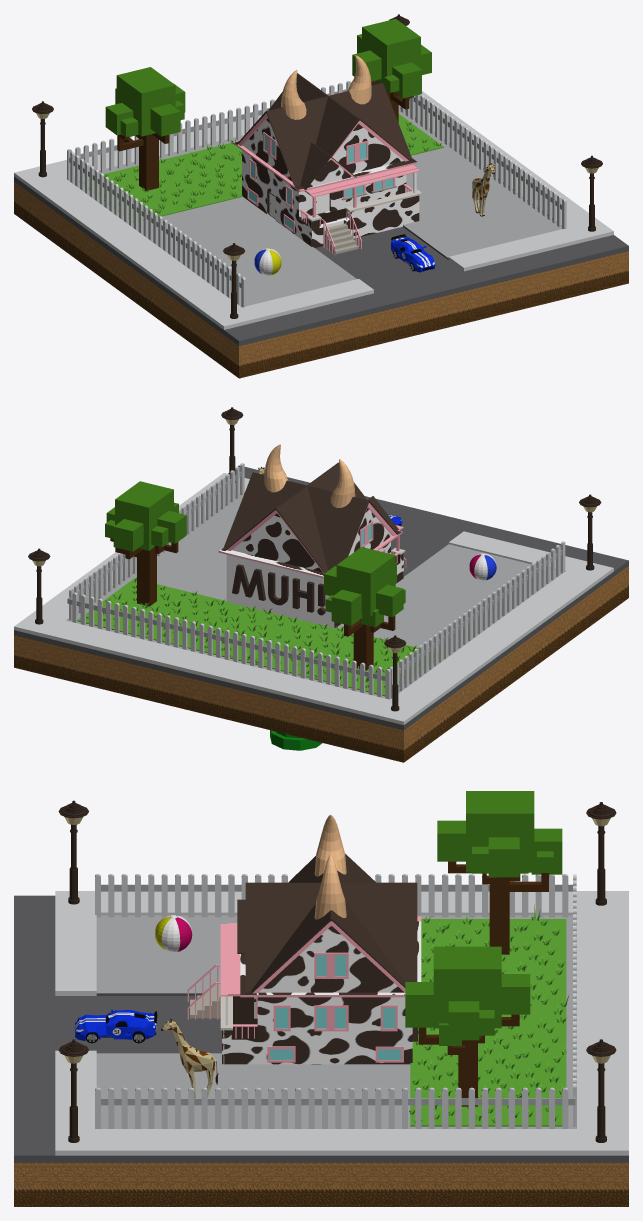
3 views of the same model, one above another, from view 1: azimuth 30°, elevation 25°; view 2: azimuth 150°, elevation 25°; view 3: azimuth 270°, elevation 25° (orthographic). The views are drawn at different scales.
Parts seen in each view (by area): view 1: Cube.004, Cube.1242, VEHICLES_RACING_CAR, ANIMAL_JIRAFA, OBJRANDOM_BEACHBALL; view 2: Cube.004, Cube.1242, UNDERGROUND_PIPES, OBJRANDOM_BEACHBALL; view 3: Cube.004, Cube.1242, VEHICLES_RACING_CAR, ANIMAL_JIRAFA, OBJRANDOM_BEACHBALL.
Part boxes in pixels (x1,y1,x2,y2): Cube.004: (14,14,628,378); Cube.1242: (233,55,422,255); VEHICLES_RACING_CAR: (390,234,435,272); ANIMAL_JIRAFA: (472,163,495,216); OBJRANDOM_BEACHBALL: (254,248,281,275); Cube.004: (14,407,628,762); Cube.1242: (218,444,406,627); UNDERGROUND_PIPES: (270,730,322,750); OBJRANDOM_BEACHBALL: (469,553,496,580); Cube.004: (14,791,628,1206); Cube.1242: (187,814,421,1064); VEHICLES_RACING_CAR: (74,1009,157,1043); ANIMAL_JIRAFA: (161,1019,218,1098); OBJRANDOM_BEACHBALL: (155,915,192,952).
Size of the model in its own units: 4000 by 2443 by 4000.
Materials: 40 (3 with a texture image).
